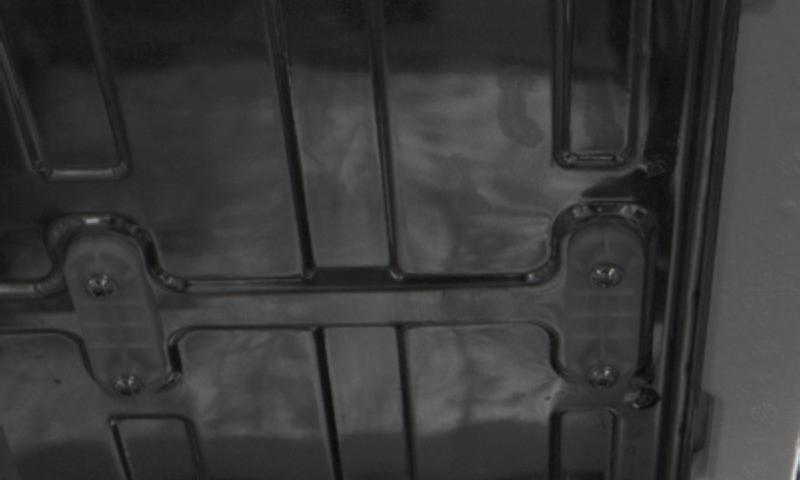vida-ok: (81, 265, 127, 309), (587, 251, 633, 294), (583, 356, 629, 395), (108, 363, 153, 402)
